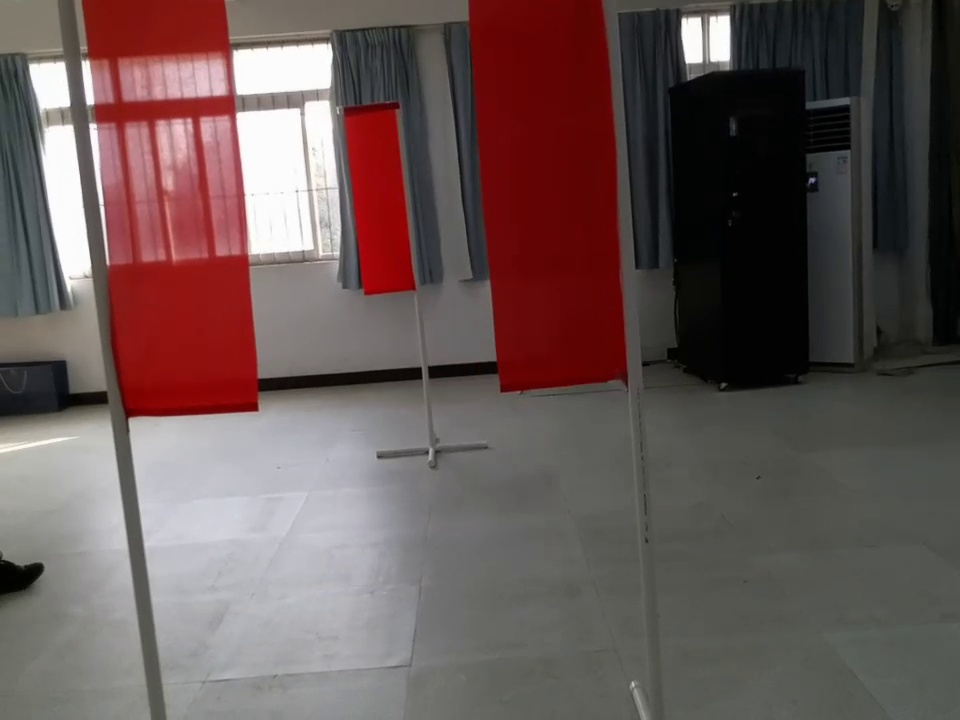qi: (62, 1, 264, 429), (469, 1, 655, 393), (350, 76, 419, 300)
